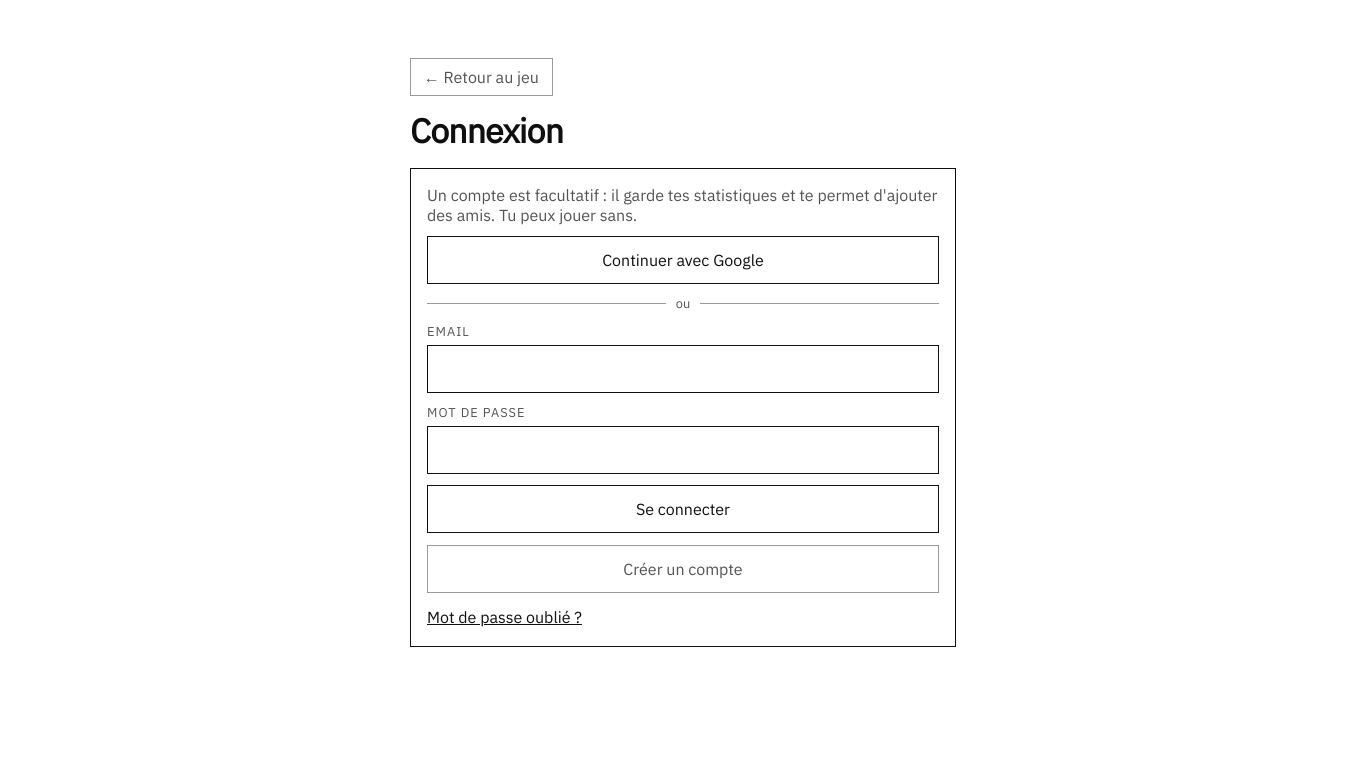
Test case: AuthPage › switches to code validation when the email is not verified
This screenshot has width=1366, height=768.
Type "rosa@example.org" into the field labelled "Email".
click(683, 369); type("rosa@example.org")  # box 427,345 -> 939,393
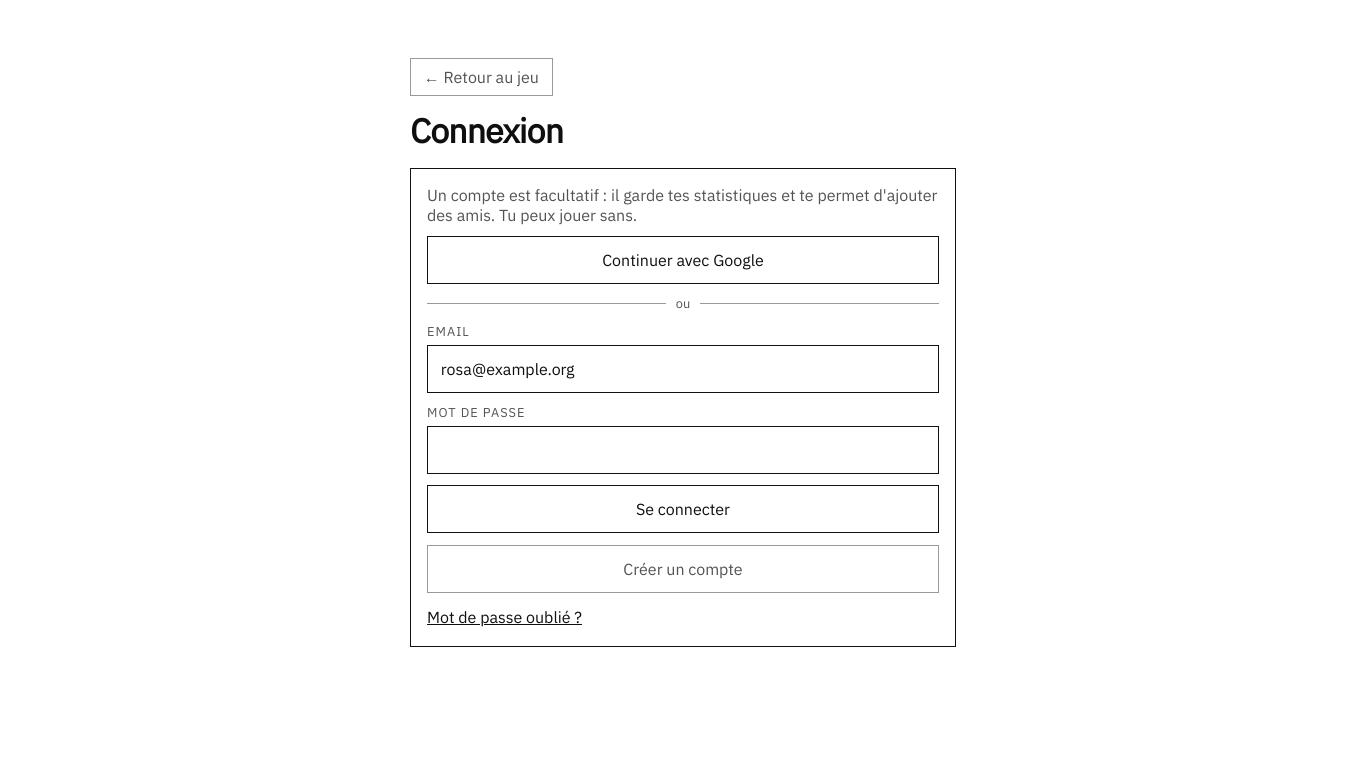
Type "whatever12345" into the password field labelled "Mot de passe".
click(683, 450); type("whatever12345")  # box 427,426 -> 939,474
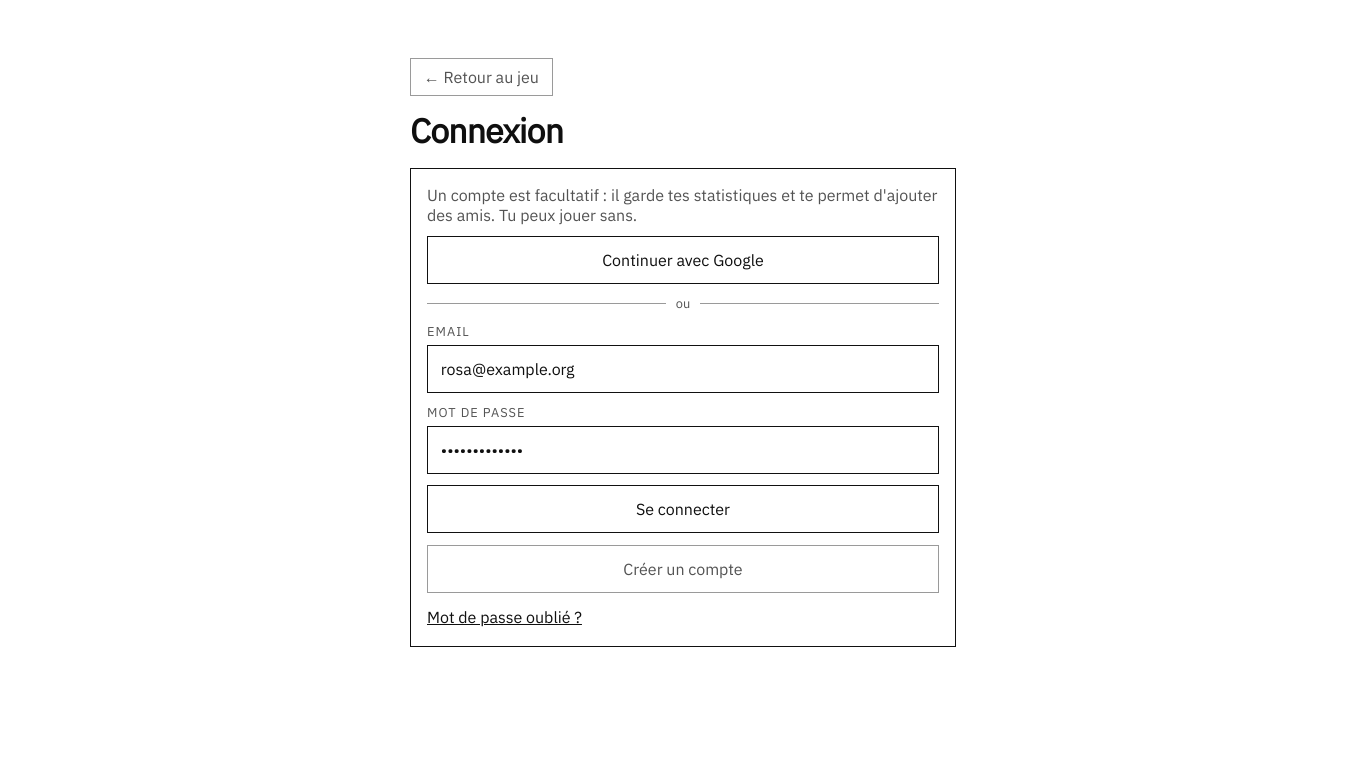
Click the button "Se connecter".
click(683, 509)  # box 427,485 -> 939,533
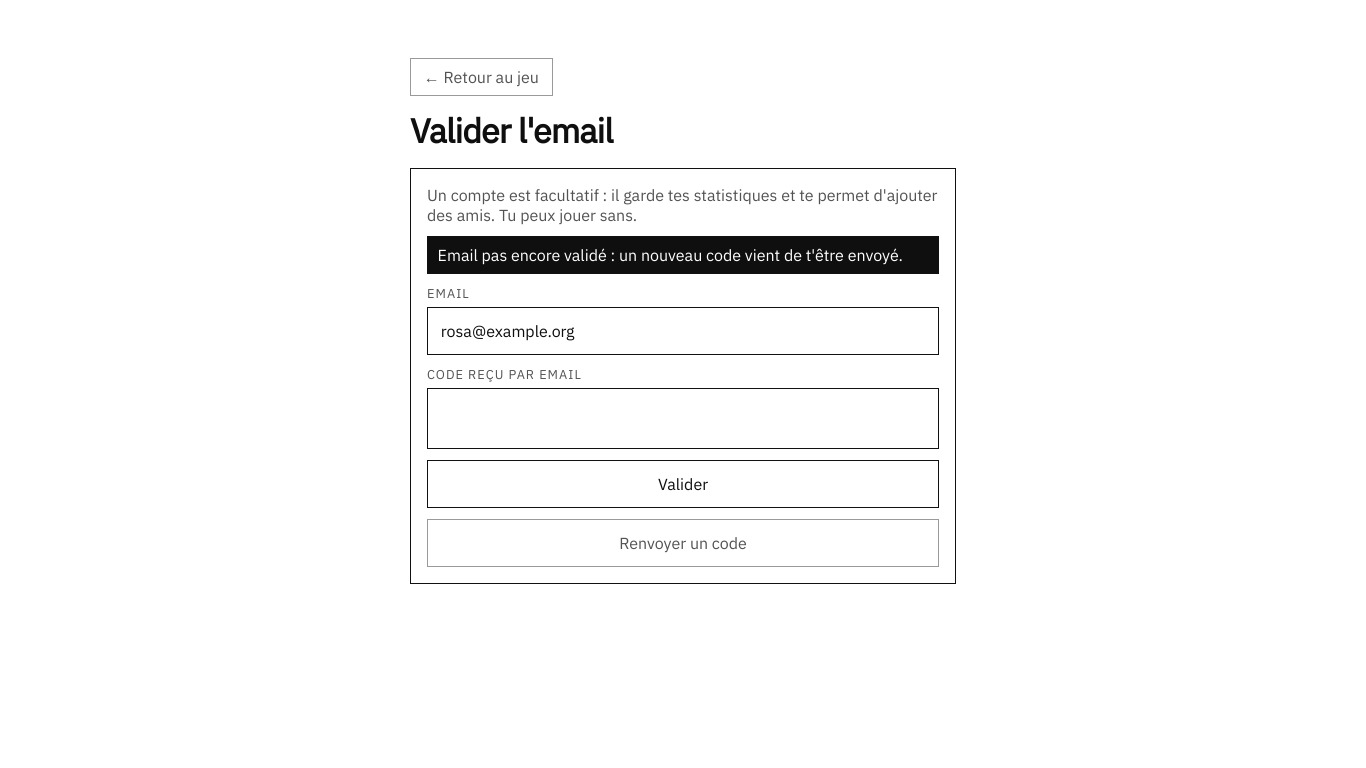
Check: the message shows "pas encore validé", box 438,245 -> 903,265
Check: the field labelled "Code reçu par email" is shown, box 427,388 -> 939,448
